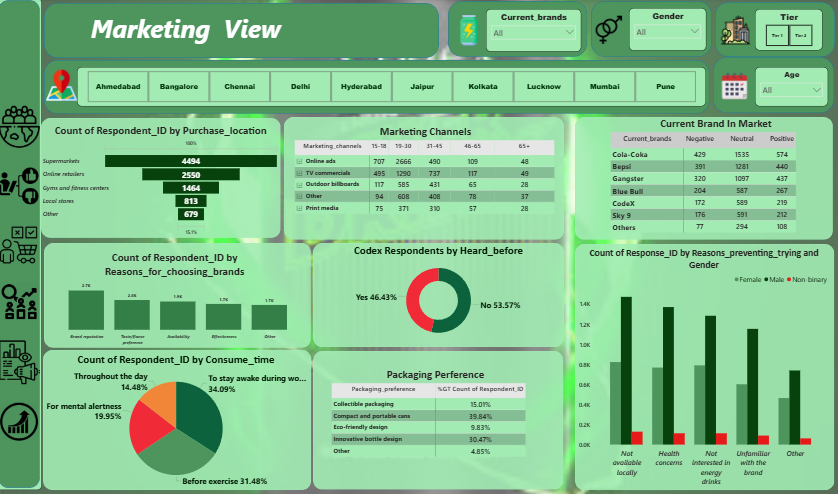

The dashboard page shown, as its layout file describes it:
{"tool":"powerbi","page":{"name":"Marketing View","canvas":[2450,1450],"ordinal":4},"visuals":[{"type":"shape","box":[139.2,14.5,1145.5,159.5],"z":0},{"type":"shape","box":[138,180,1930,156],"z":1000},{"type":"shape","box":[0,0,133.4,1426.8],"z":2000},{"type":"shape","box":[1726,8,350,162],"z":3000},{"type":"shape","box":[1310,8,404,162],"z":4000},{"type":"shape","box":[2085.1,11.6,348,159.5],"z":5000},{"type":"shape","box":[2079.3,171.1,350.9,162.4],"z":6000},{"type":"shape","box":[130,347.5,695,347.5],"z":7000},{"type":"shape","box":[136,1022,778,406],"z":8000},{"type":"shape","box":[1678,344,748,356],"z":9000},{"type":"shape","box":[138,710,774,304],"z":10000},{"type":"shape","box":[920,1024,726,402],"z":11000},{"type":"shape","box":[1678,712,752,714],"z":12000},{"type":"clusteredColumnChart","fields":{"Series":["dim_repondents.Gender"],"Y":["CountNonNull(fact_survey_responses.Response_ID)"],"Category":["fact_survey_responses.Reasons_preventing_trying"]},"box":[1686,722,736,700],"z":13000},{"type":"shape","box":[834,344,812,356],"z":14000},{"type":"slicer","fields":{"Values":["dim_cities.City"]},"box":[236,200,1824,114],"z":15000},{"type":"slicer","title":"Age","fields":{"Values":["dim_repondents.Age"]},"box":[2202,200,212,114],"z":16000},{"type":"slicer","title":"Tier","fields":{"Values":["dim_cities.Tier"]},"box":[2202,32,196,120],"z":17000},{"type":"slicer","title":"Gender","fields":{"Values":["dim_repondents.Gender"]},"box":[1836,28,224,124],"z":18000},{"type":"slicer","title":"Current_brands","fields":{"Values":["fact_survey_responses.Current_brands"]},"box":[1420,32,276,124],"z":19000},{"type":"funnel","fields":{"Y":["CountNonNull(fact_survey_responses.Respondent_ID)"],"Category":["fact_survey_responses.Purchase_location"]},"box":[130,366,694,330],"z":20000},{"type":"pivotTable","title":"Marketing Channels ","fields":{"Values":["CountNonNull(dim_repondents.Respondent_ID)"],"Rows":["fact_survey_responses.Marketing_channels","dim_repondents.Gender"],"Columns":["dim_repondents.Age"]},"box":[862,368,768,308],"z":21000},{"type":"shape","box":[920,710,728,302],"z":22000},{"type":"donutChart","fields":{"Category":["fact_survey_responses.Heard_before"],"Y":["dim_repondents.Codex Respondents"]},"box":[920,712,728,288],"z":23000},{"type":"pivotTable","title":"Packaging Perference","fields":{"Values":["CountNonNull(dim_repondents.Respondent_ID)"],"Rows":["fact_survey_responses.Packaging_preference"]},"box":[968,1072,612,308],"z":24000},{"type":"columnChart","fields":{"Y":["CountNonNull(fact_survey_responses.Respondent_ID)"],"Category":["fact_survey_responses.Reasons_for_choosing_brands"]},"box":[129.2,732.9,775.1,279.5],"z":25000},{"type":"pieChart","fields":{"Category":["fact_survey_responses.Consume_time"],"Y":["CountNonNull(dim_repondents.Respondent_ID)"]},"box":[140,1030,766,398],"z":26000},{"type":"pivotTable","title":"Current Brand In Market","fields":{"Rows":["fact_survey_responses.Current_brands"],"Values":["CountNonNull(dim_repondents.Respondent_ID)"],"Columns":["fact_survey_responses.Brand_perception"]},"box":[1778,346,620,354],"z":27000},{"type":"textbox","box":[258.4,31.6,603.7,123.9],"z":28000},{"type":"image","box":[0,817.6,134.4,126],"z":29000},{"type":"image","box":[2.8,1167.6,128.8,120.4],"z":30000},{"type":"image","box":[1322,42,98,106],"z":31000},{"type":"image","box":[2098,40,96,104],"z":32000},{"type":"image","box":[1732,46,92,92],"z":33000},{"type":"image","box":[2098,210,90,94],"z":34000},{"type":"image","box":[138,202,102,100],"z":35000},{"type":"image","box":[2.8,308,128.8,131.6],"z":36000},{"type":"image","box":[0,478.5,130.5,133.4],"z":37000},{"type":"image","box":[0,655.4,130.5,121.8],"z":38000},{"type":"image","box":[0,985.6,137.2,140],"z":39000}]}

Visuals, with their boxes in screenshot pixels (x1, y1, x2, y2), scaled from the page's 2450x1450 canvas onto the 838x494 screenshot:
shape: 48,5,439,59
shape: 47,61,707,114
shape: 0,0,46,486
shape: 590,3,710,58
shape: 448,3,586,58
shape: 713,4,832,58
shape: 711,58,831,114
shape: 44,118,282,237
shape: 47,348,313,487
shape: 574,117,830,238
shape: 47,242,312,345
shape: 315,349,563,486
shape: 574,243,831,486
clusteredColumnChart - dim_repondents.Gender x CountNonNull(fact_survey_responses.Response_ID): 577,246,828,484
shape: 285,117,563,238
slicer - dim_cities.City: 81,68,705,107
"Age" slicer: 753,68,826,107
"Tier" slicer: 753,11,820,52
"Gender" slicer: 628,10,705,52
"Current_brands" slicer: 486,11,580,53
funnel - CountNonNull(fact_survey_responses.Respondent_ID) x fact_survey_responses.Purchase_location: 44,125,282,237
"Marketing Channels " pivotTable: 295,125,558,230
shape: 315,242,564,345
donutChart - fact_survey_responses.Heard_before x dim_repondents.Codex Respondents: 315,243,564,341
"Packaging Perference" pivotTable: 331,365,540,470
columnChart - CountNonNull(fact_survey_responses.Respondent_ID) x fact_survey_responses.Reasons_for_choosing_brands: 44,250,309,345
pieChart - fact_survey_responses.Consume_time x CountNonNull(dim_repondents.Respondent_ID): 48,351,310,487
"Current Brand In Market" pivotTable: 608,118,820,238
textbox: 88,11,295,53
image: 0,279,46,321
image: 1,398,45,439
image: 452,14,486,50
image: 718,14,750,49
image: 592,16,624,47
image: 718,72,748,104
image: 47,69,82,103
image: 1,105,45,150
image: 0,163,45,208
image: 0,223,45,265
image: 0,336,47,383
